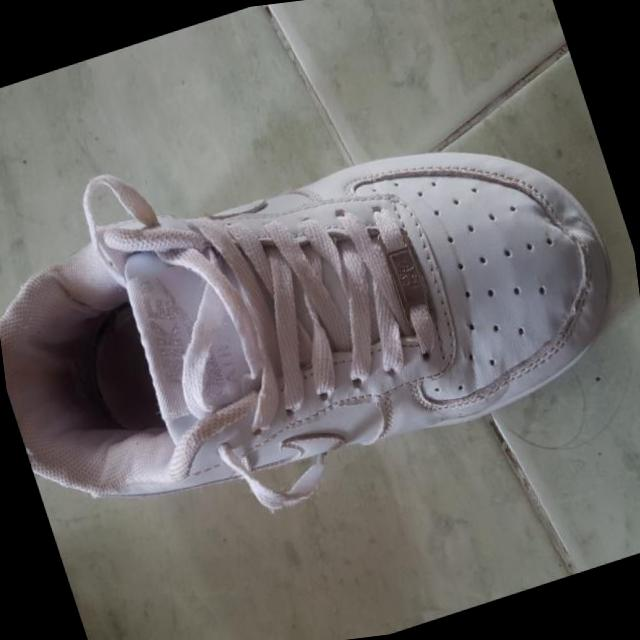nike_fake_airforce: (0, 76, 640, 546)
